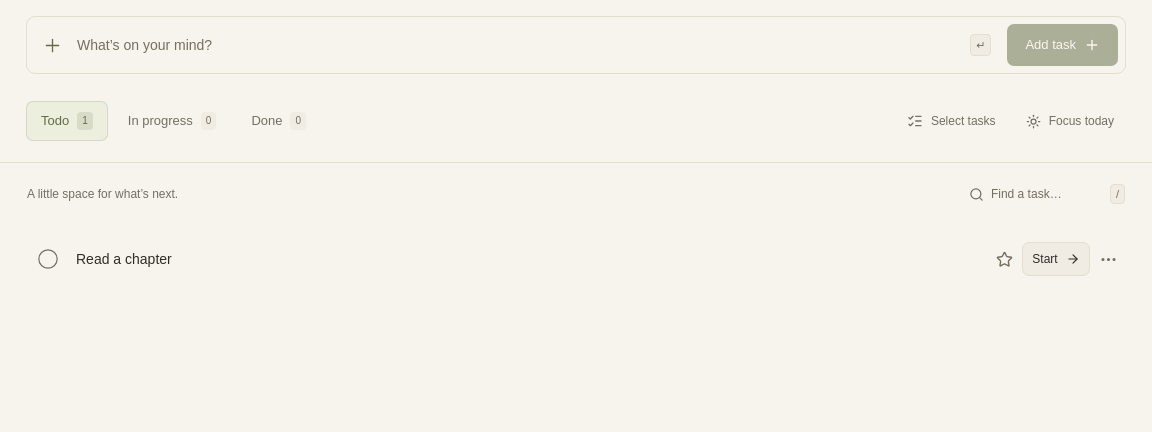
Test: clears search without losing keyboard focus and restores the task list
Type "No matching task" into the field named "Search tasks" at x=1047, y=194, box [991, 181, 1103, 207]
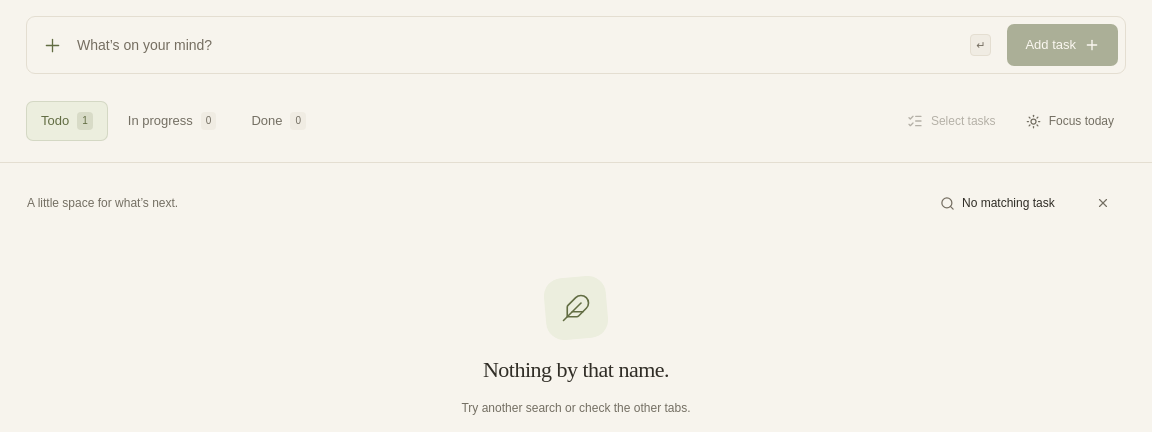
Click the button named "Clear search" at x=1103, y=203, box [1081, 181, 1125, 225]
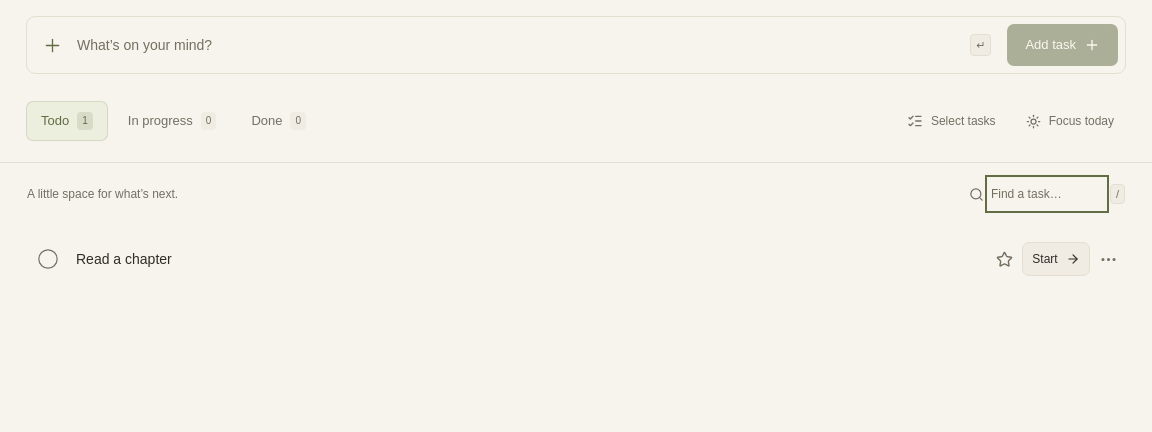
Now the field named "Search tasks" is empty, box [991, 181, 1103, 207]
